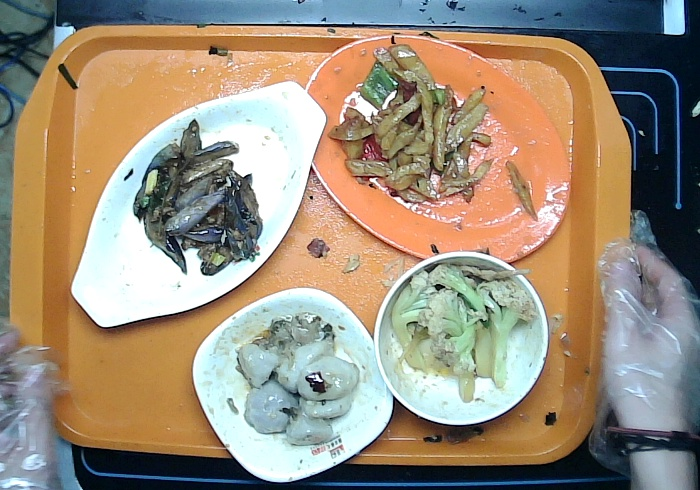NLDX-Bai_Se_Xiao_Fang_Die: (183, 281, 403, 485)
NLDX-Fan_Wan: (366, 248, 557, 431)
NLDX-Ju_Se_Pan: (298, 29, 574, 272)
NLDX-Yu_Pan: (71, 77, 335, 333)
